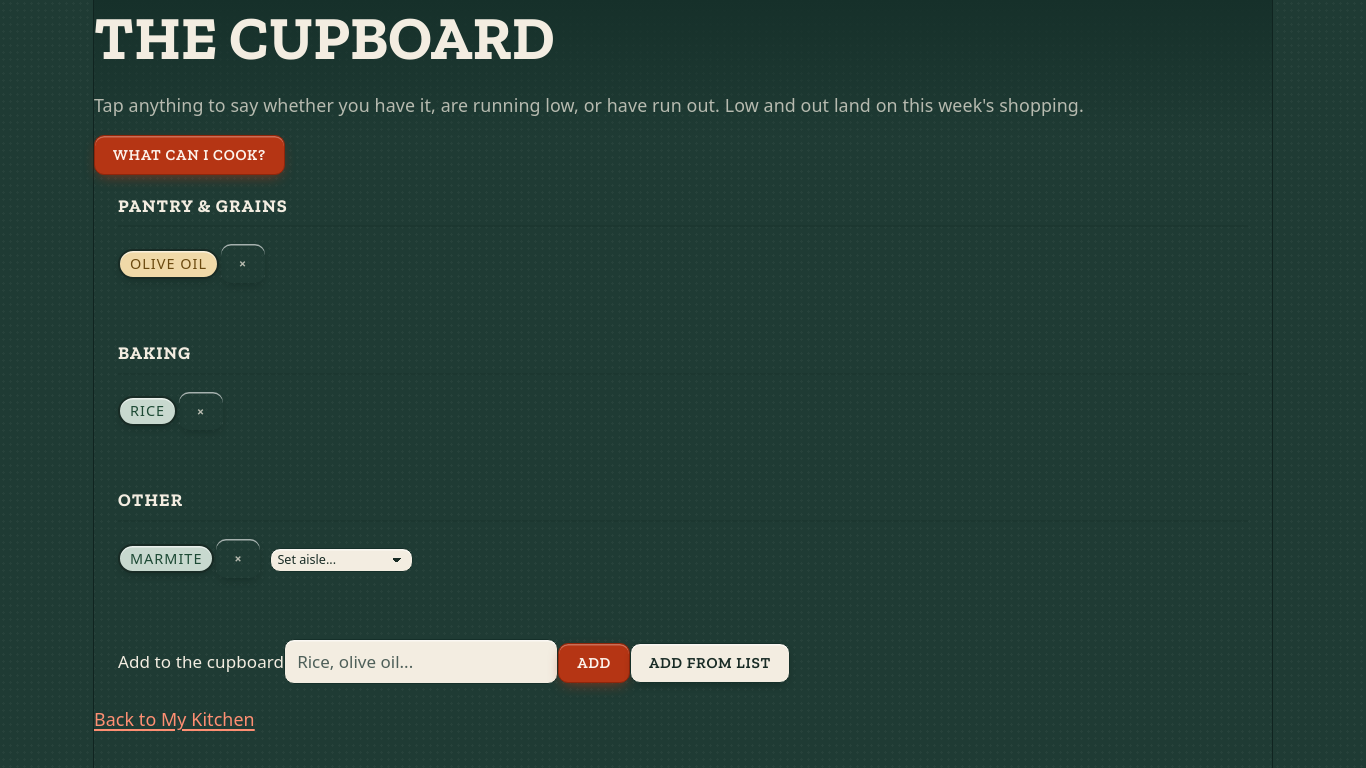
Test case: adds several staples at once from the catalog picker
Expected: the button "Rice" is shown, x1=118 y1=396 x2=177 y2=426
Click the button "Add from list".
click(710, 663)  # box x1=630 y1=643 x2=790 y2=683
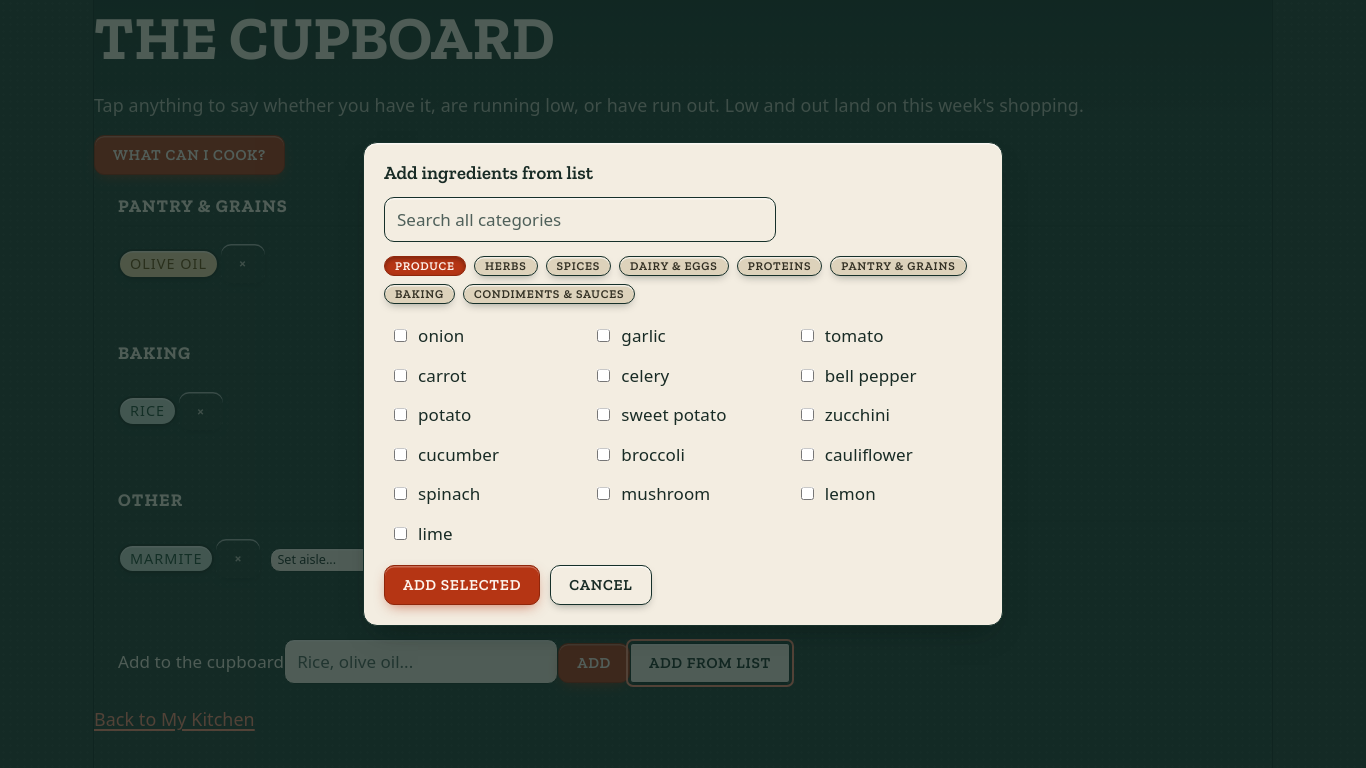
Click the checkbox labelled "onion".
click(400, 336)  # box x1=394 y1=329 x2=407 y2=342
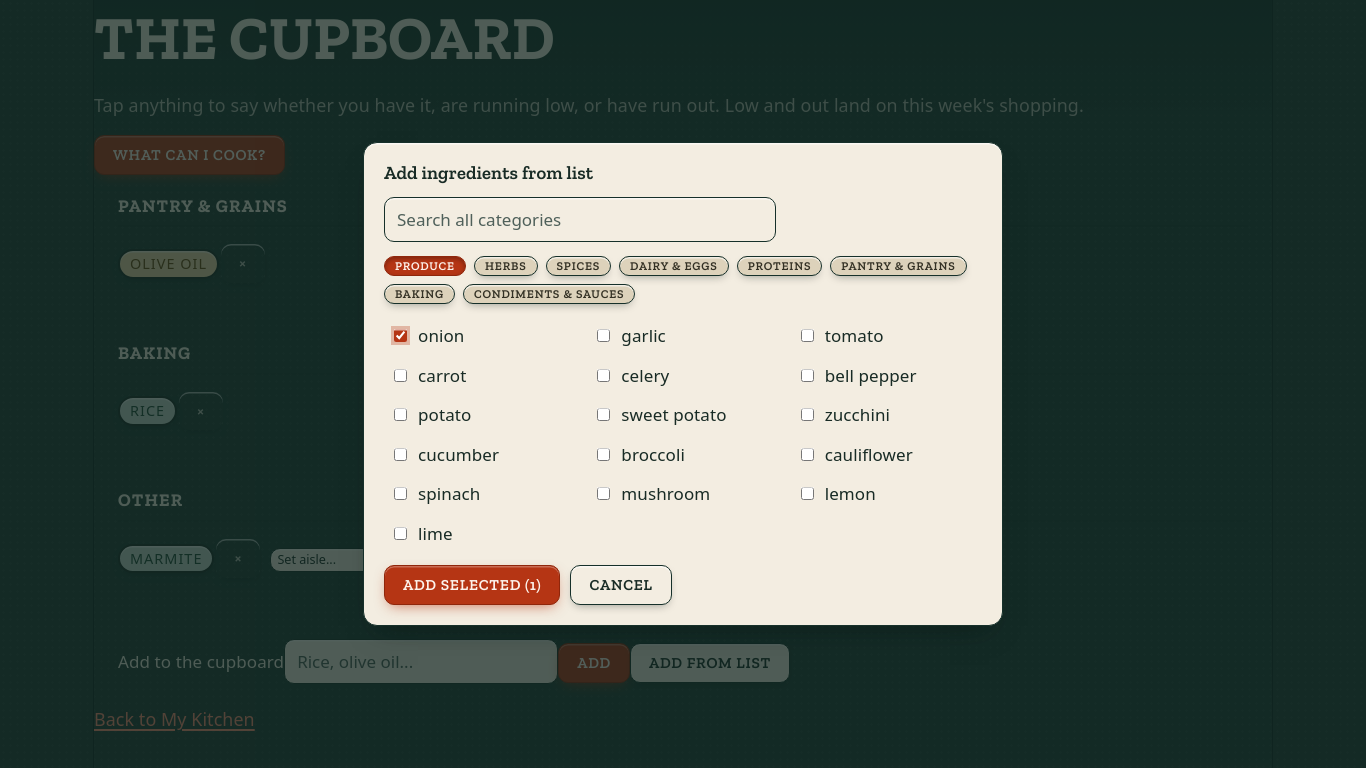
Click the button "Add selected (1)".
click(472, 585)  # box x1=384 y1=565 x2=560 y2=605
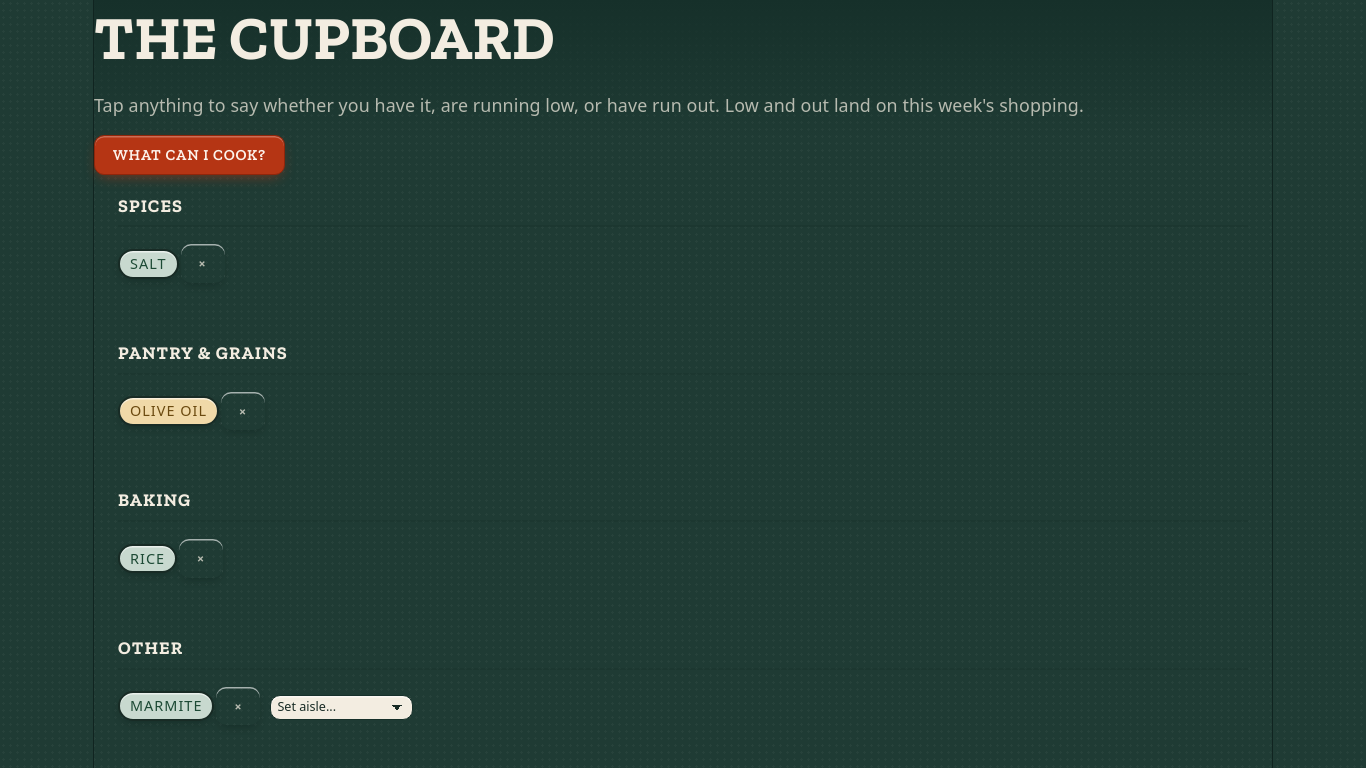
Result: the dialog is gone
